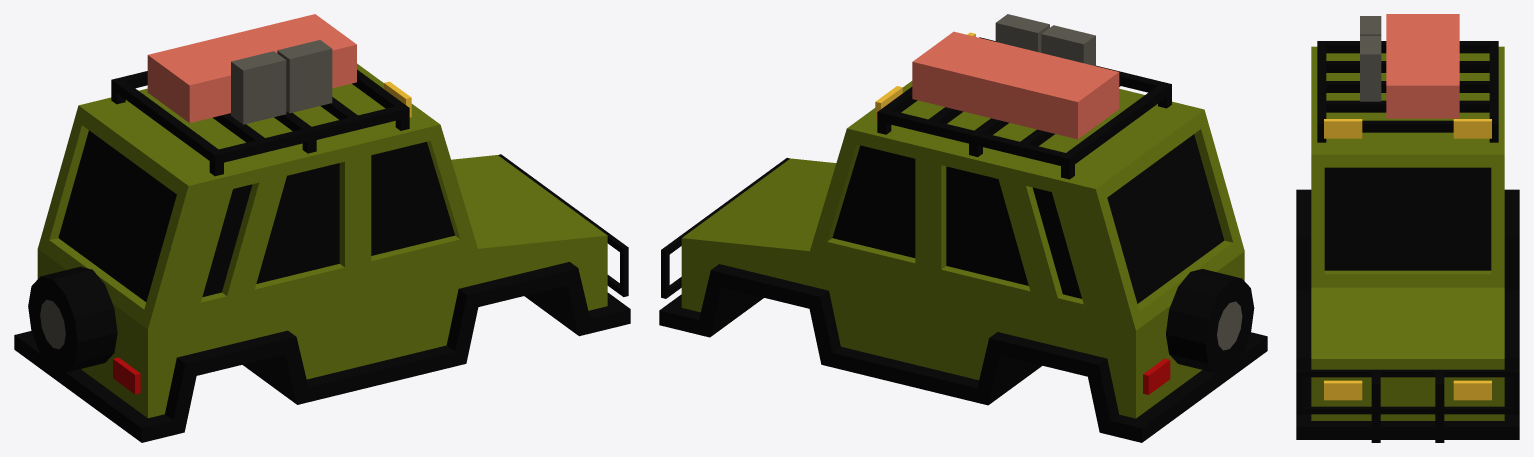
Rendered from CityOffRoadCar_02.fbx.
3 renders of one model, left to right at view 1: azimuth 30°, elevation 25°; view 2: azimuth 150°, elevation 25°; view 3: azimuth 270°, elevation 25°, orthographic. The views are drawn at different scales.
Parts seen in each view (by area): view 1: CityOffRoadCar_02; view 2: CityOffRoadCar_02; view 3: CityOffRoadCar_02.
Part boxes in pixels (box(x1,y1,x2,y2)): CityOffRoadCar_02: box(14, 14, 630, 442); CityOffRoadCar_02: box(659, 14, 1267, 442); CityOffRoadCar_02: box(1296, 14, 1519, 442).
Bounding box in the file's own units: 0.5791 × 0.3317 × 0.2453.
